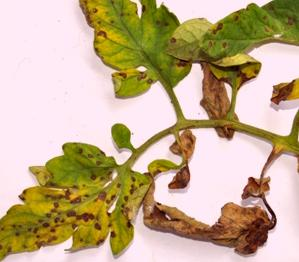Tomato Septoria leaf spot: (0, 144, 148, 262), (74, 0, 200, 104), (162, 0, 299, 81)
